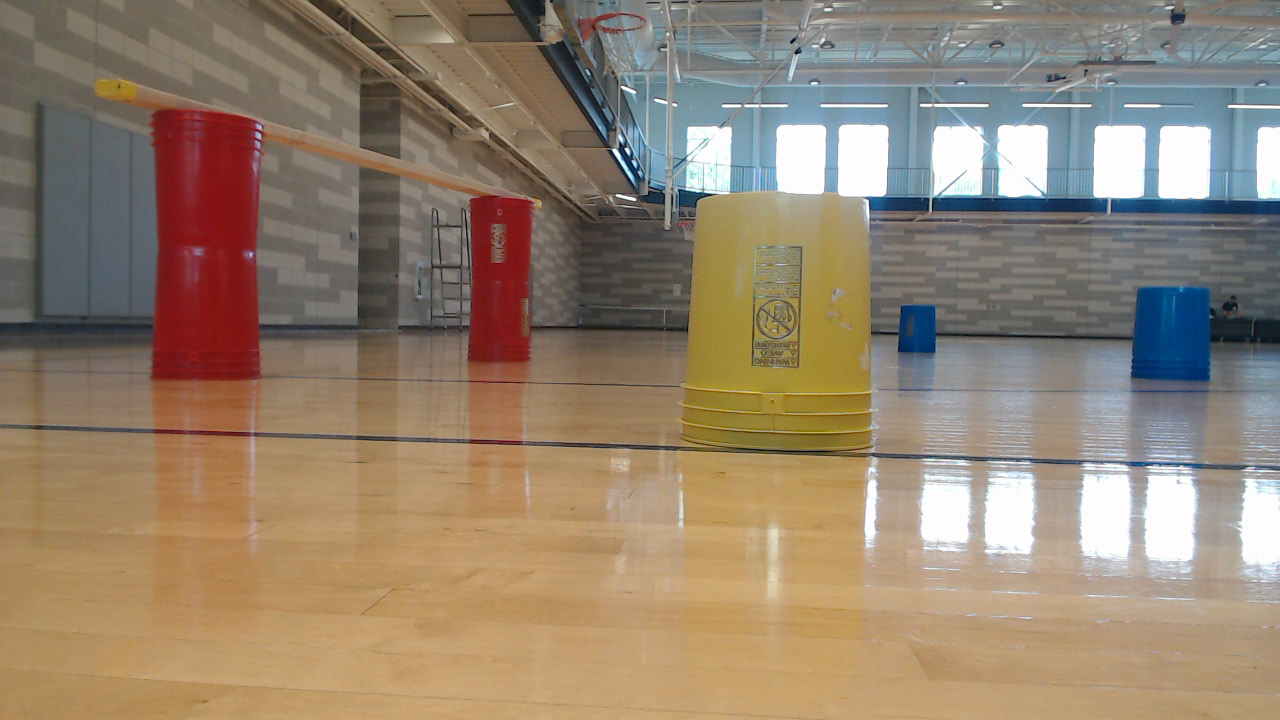blue_bucket: (1131, 287, 1220, 391), (899, 306, 944, 362)
red_bucket_arch: (147, 93, 546, 392)
yellow_bucket: (681, 192, 887, 463)
